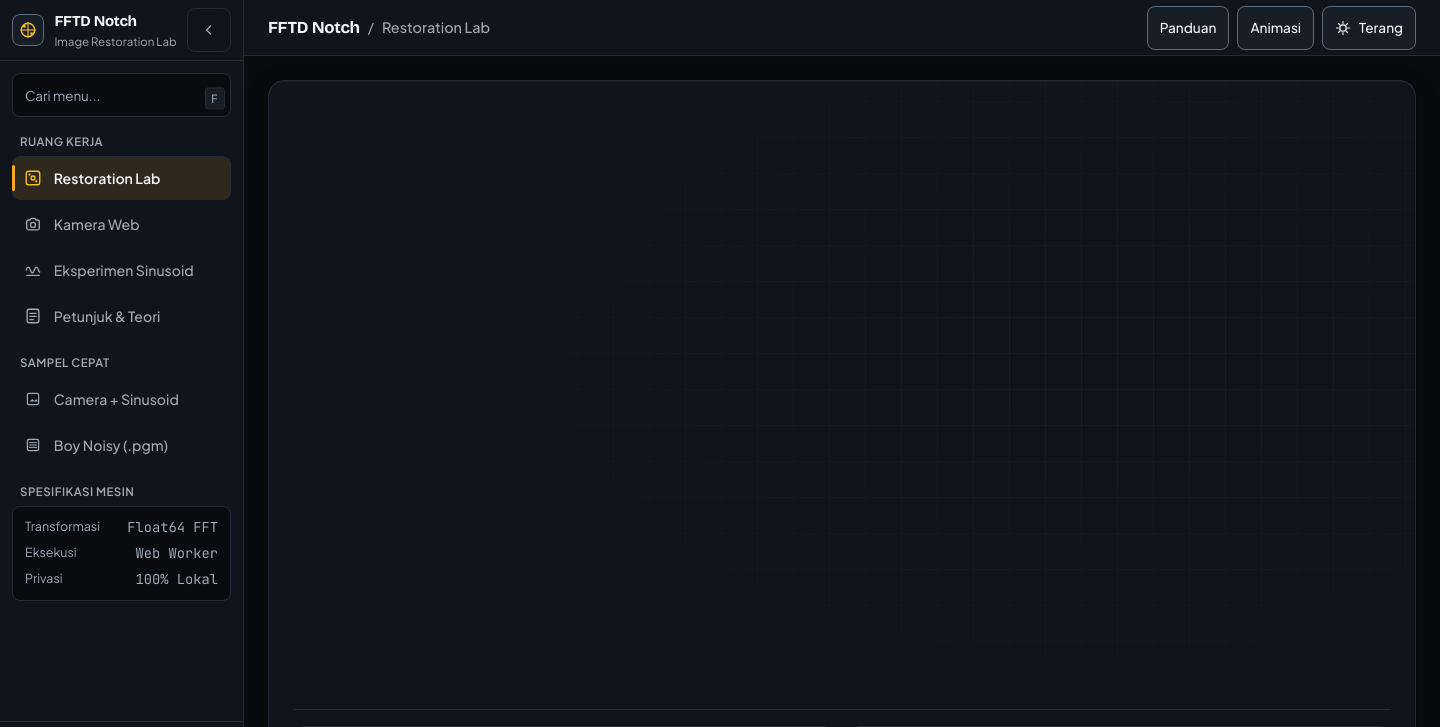
Test: App navigation and theme controls › filters sidebar menu items with valid roving tabindex and collapses/expands desktop sidebar rail
Type "sinusoid" into the search field with placeholder "Cari menu...".
click(122, 95); type("sinusoid")  # box [12,73,231,117]
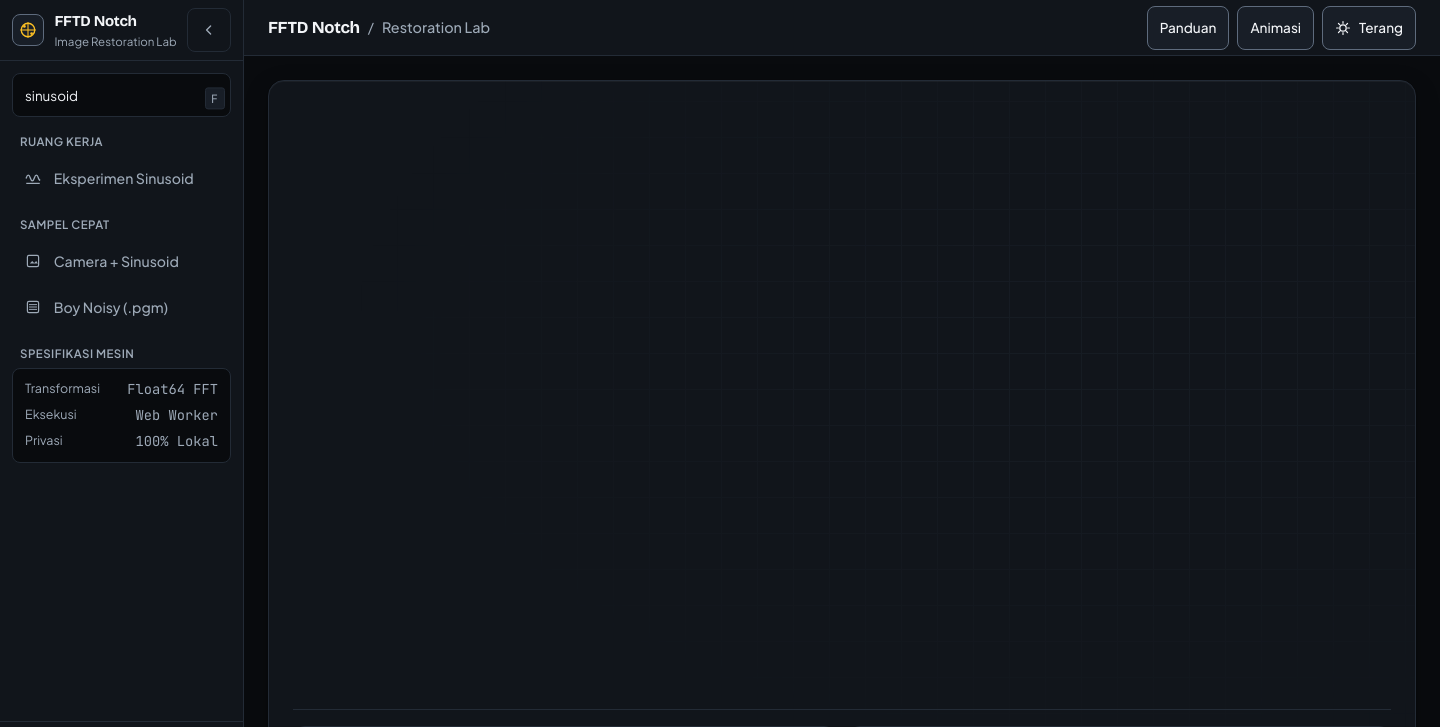
Now the tab "Eksperimen Sinusoid" has attribute tabindex="0", box [12,156,231,200]
Press Escape in the search field with placeholder "Cari menu...", box [12,73,231,117]
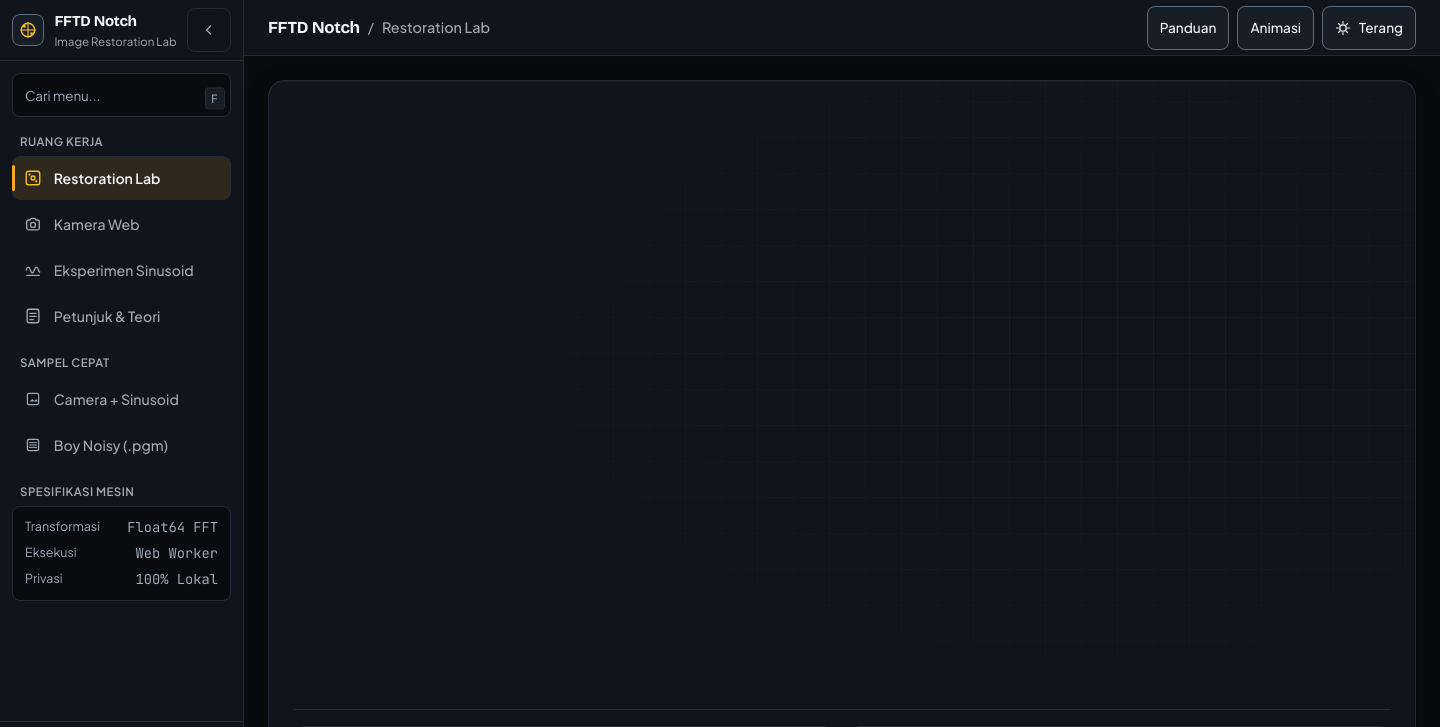
Now the tab "Restoration Lab" is shown, box [12,156,231,200]
Click the button named "Ciutkan panel navigasi".
click(209, 30)  # box [187,8,231,52]
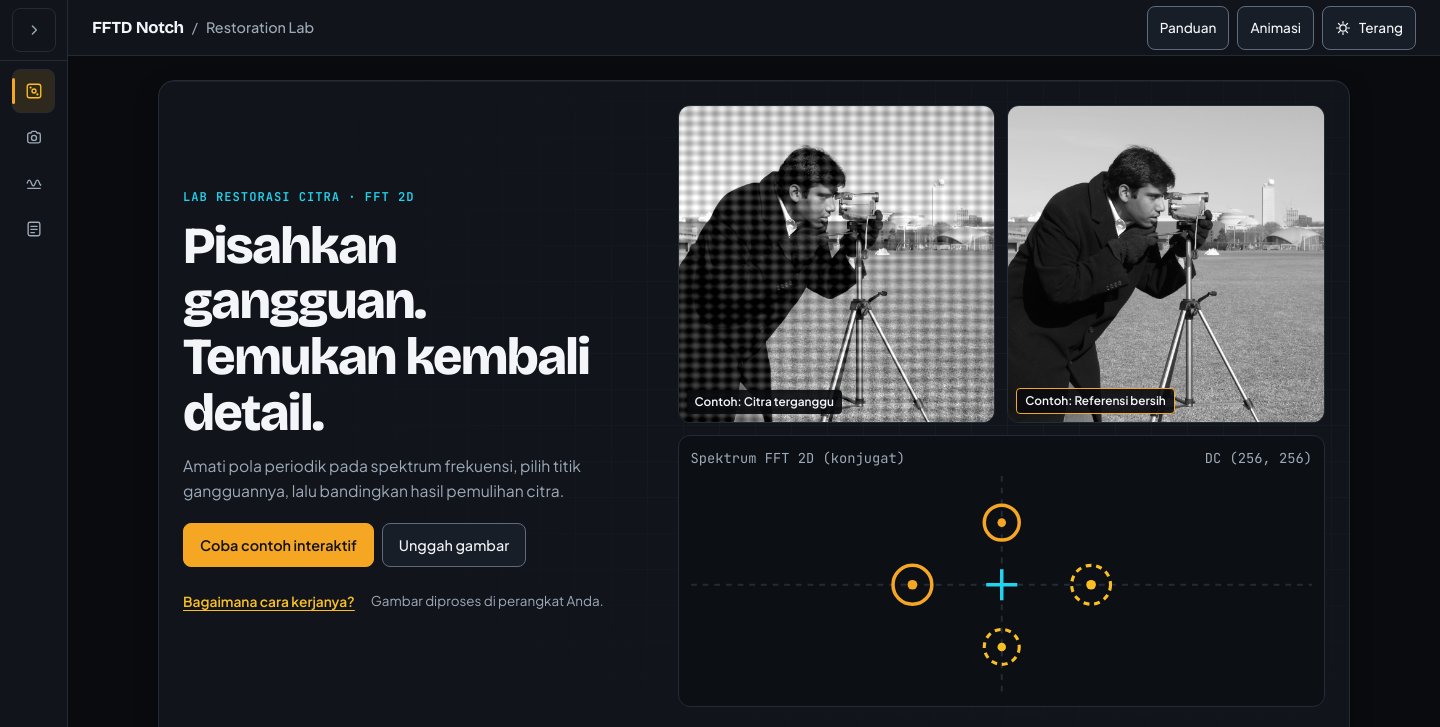
Now the button named "Luaskan panel navigasi" is collapsed, box [12,8,56,52]
